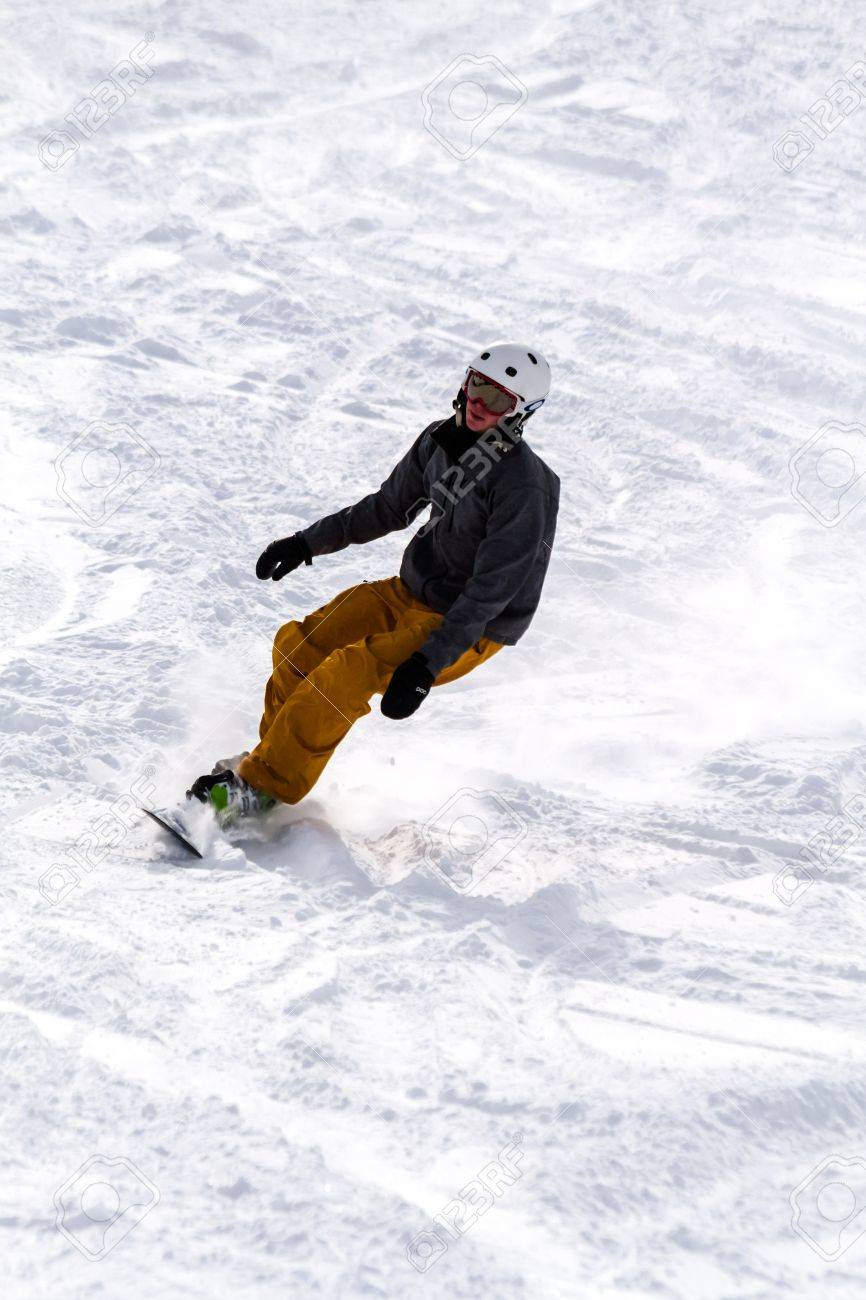snowboarder: (126, 329, 587, 885)
